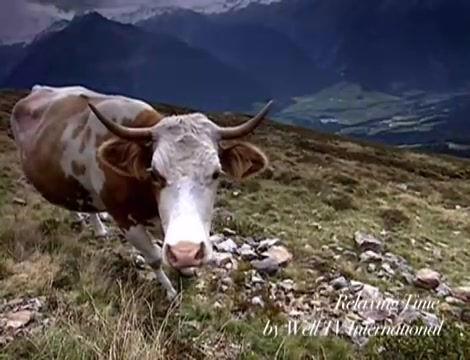cow: (10, 84, 276, 304)
